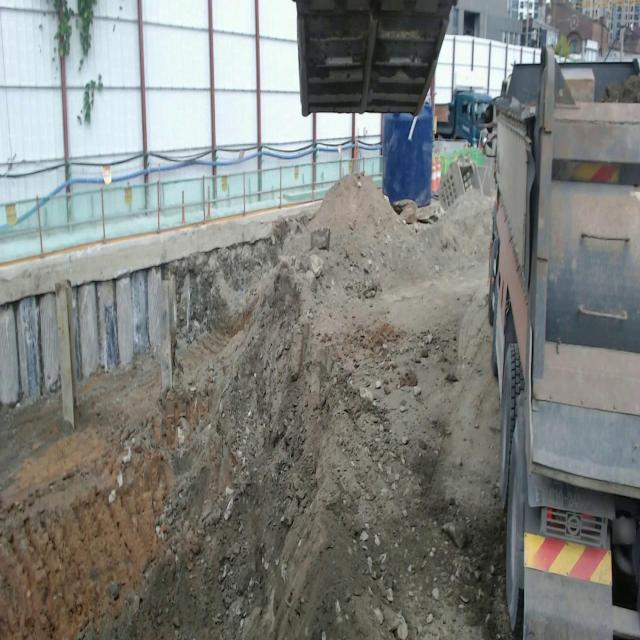red-sand: (0, 175, 511, 639)
